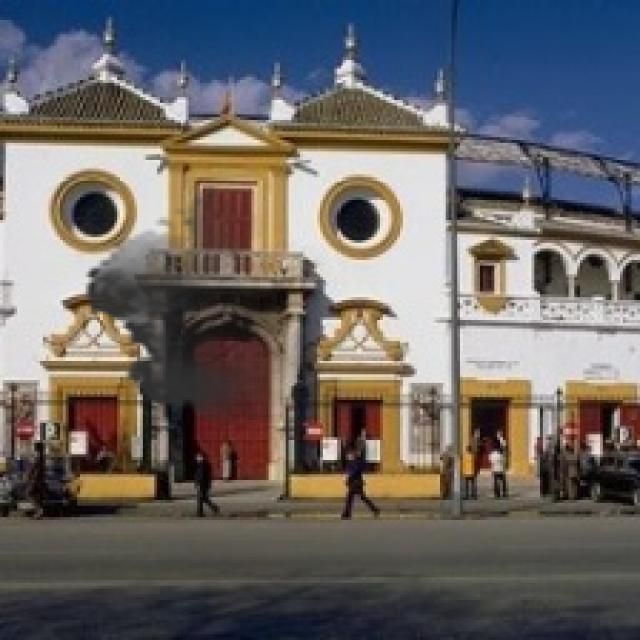Smoke: (74, 182, 334, 428)
